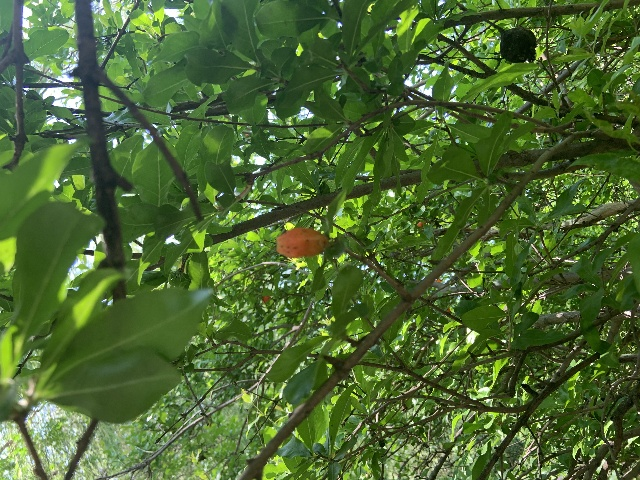bud: (276, 226, 327, 259), (417, 221, 423, 227)
